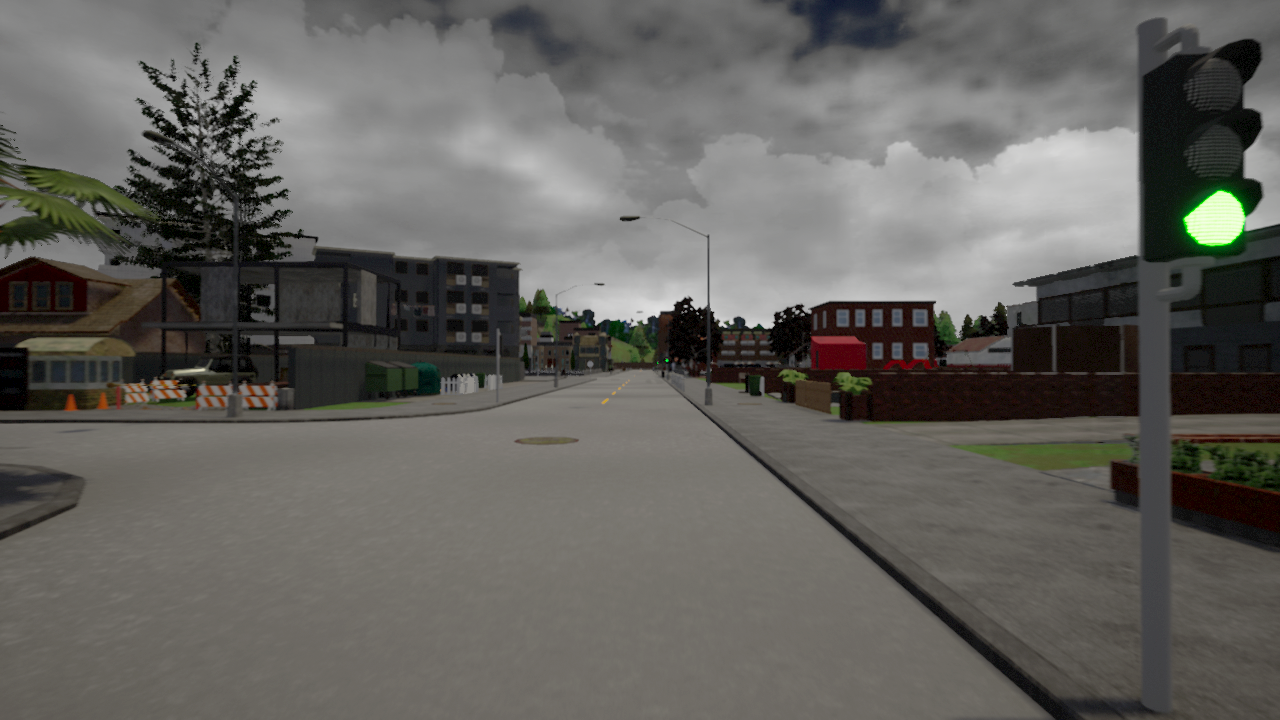green: (1159, 35, 1267, 263)
